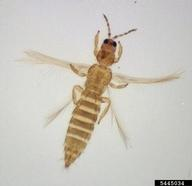Thrips: (8, 10, 178, 174)
